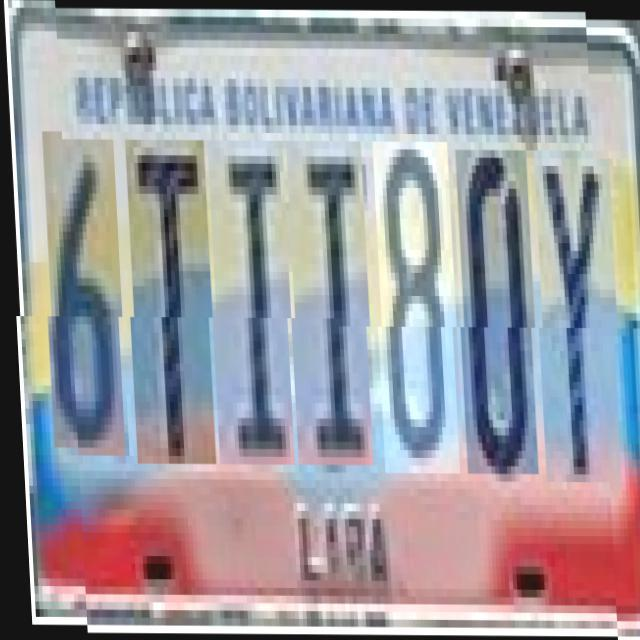0: (453, 150, 538, 473)
6: (41, 140, 124, 456)
8: (371, 141, 459, 473)
I: (205, 140, 294, 464), (284, 140, 372, 464)
T: (123, 140, 215, 463)
Y: (532, 150, 620, 482)
